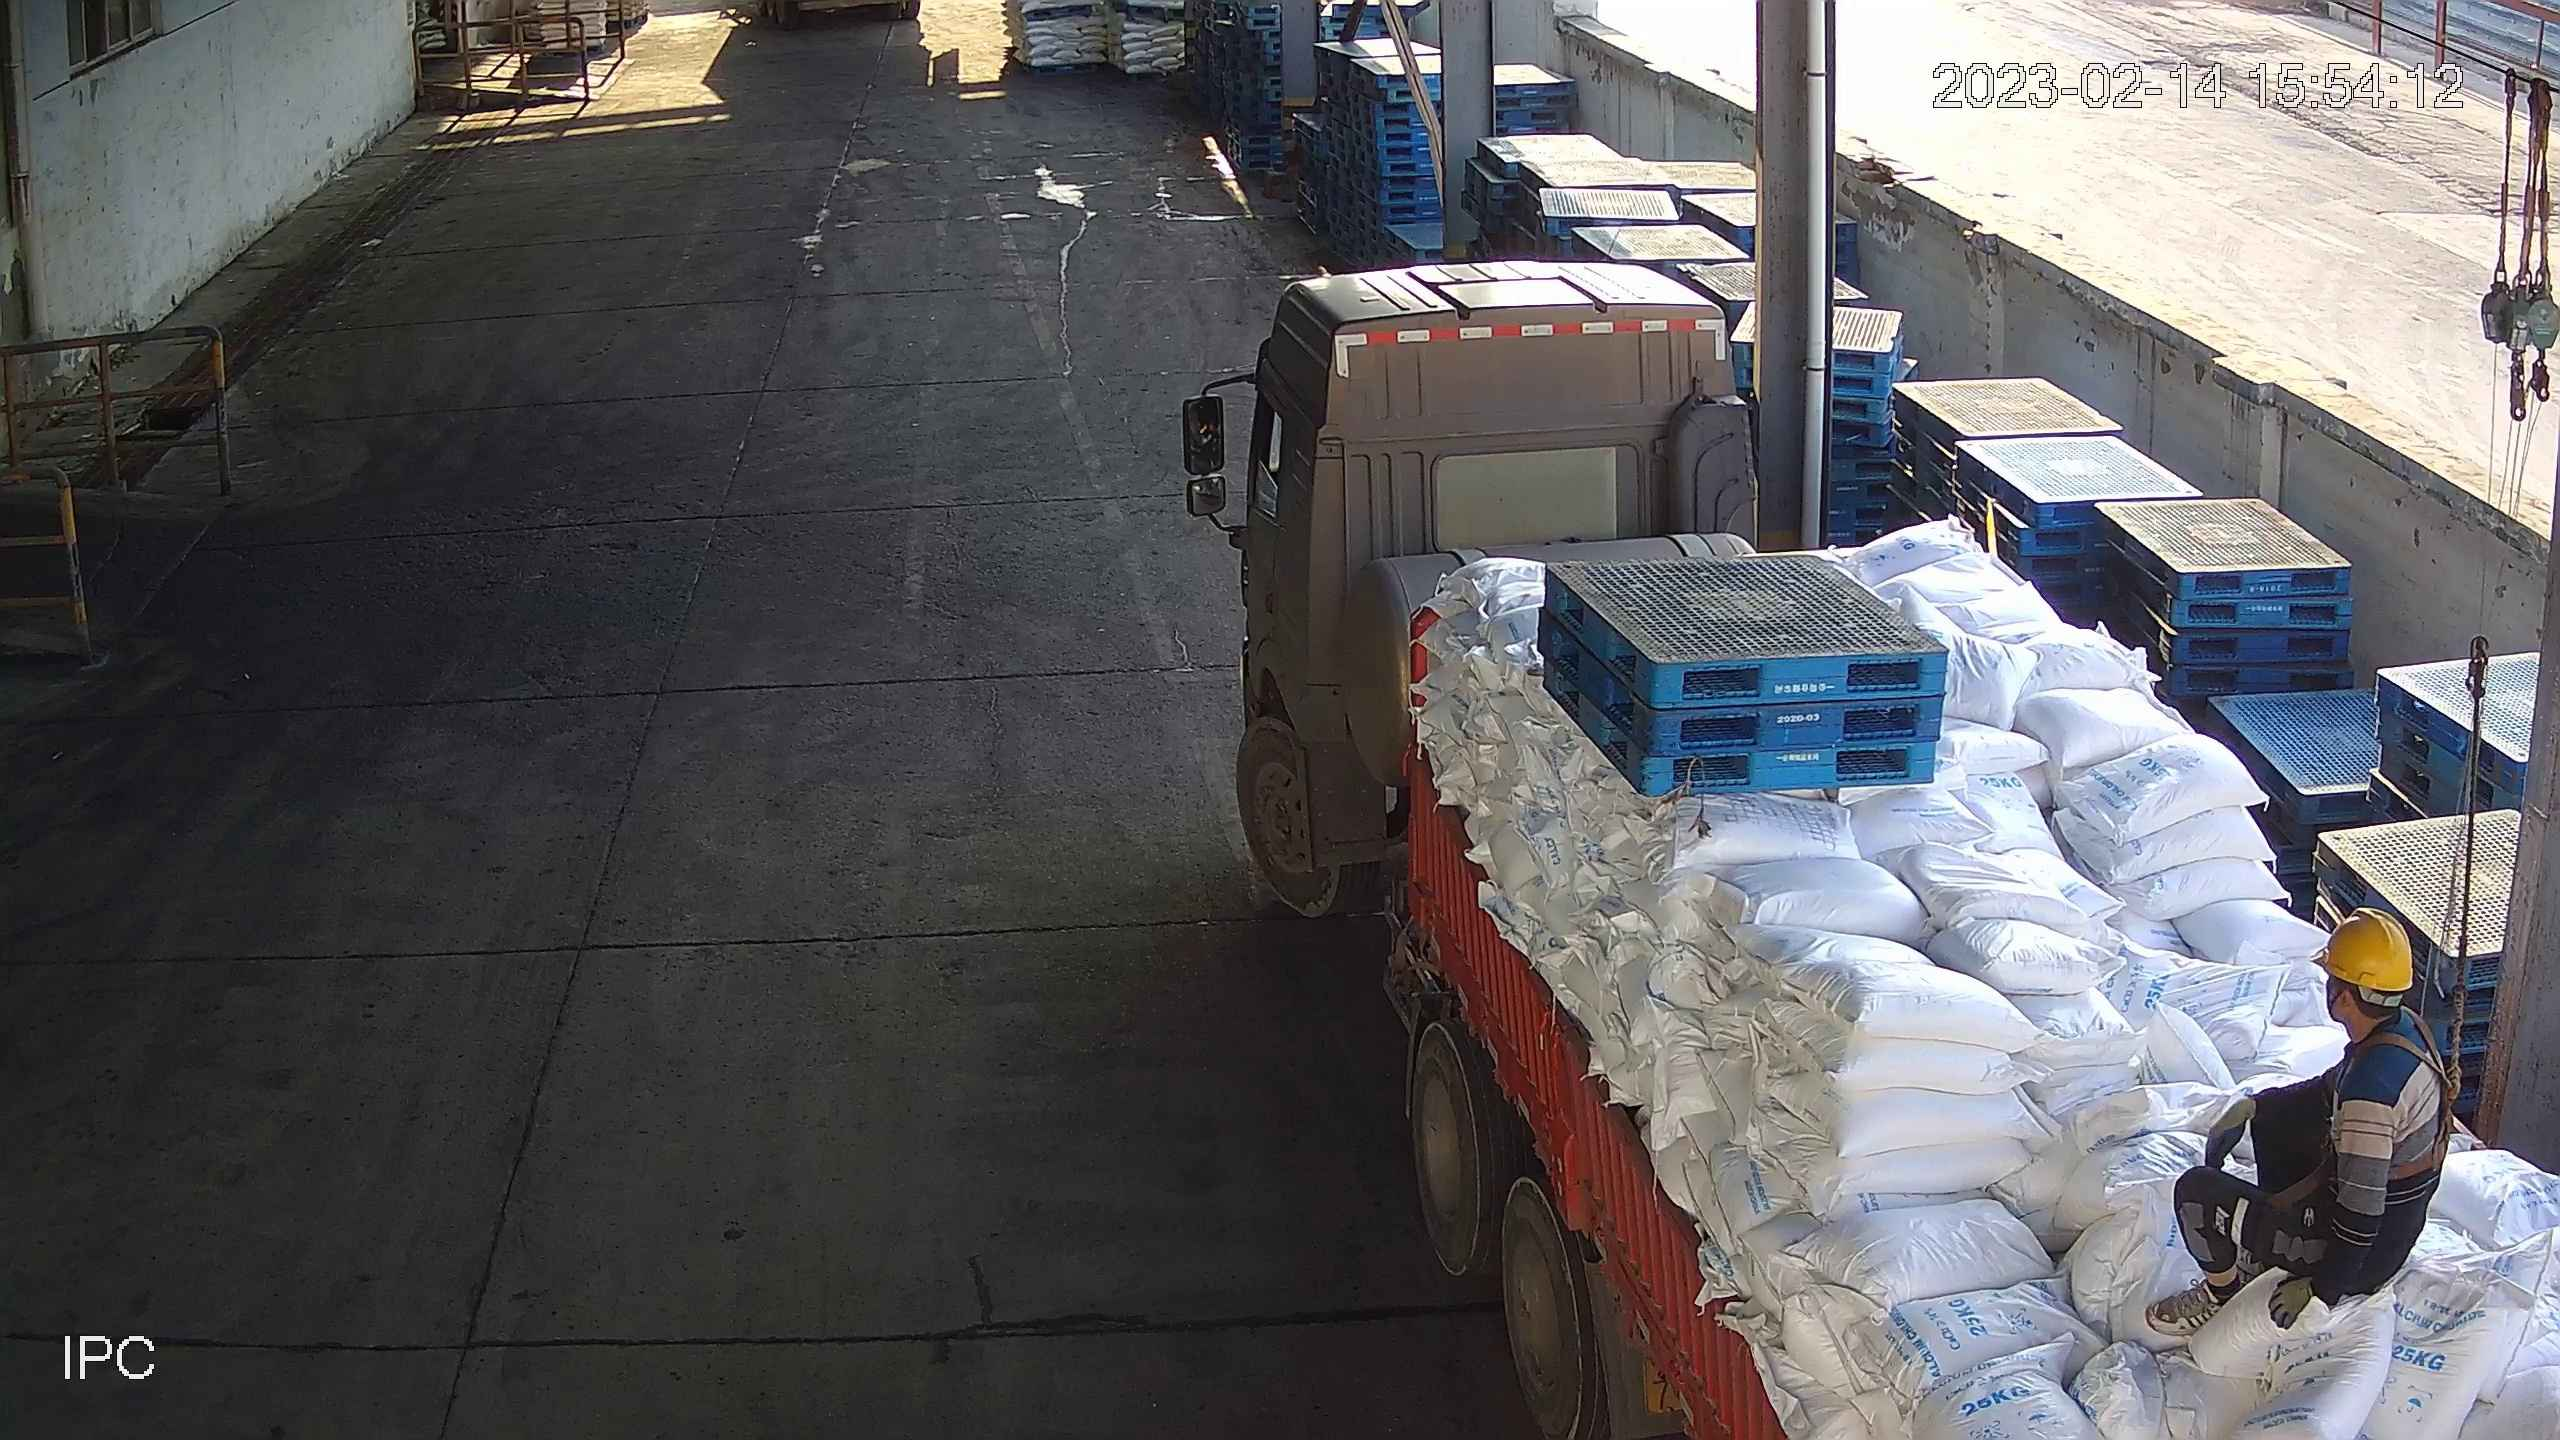belt: (2363, 1028, 2467, 1177)
head: (2313, 911, 2445, 1109)
helmet: (2316, 911, 2416, 990)
people: (2146, 908, 2451, 1337)
truck: (1183, 260, 2560, 1440)
